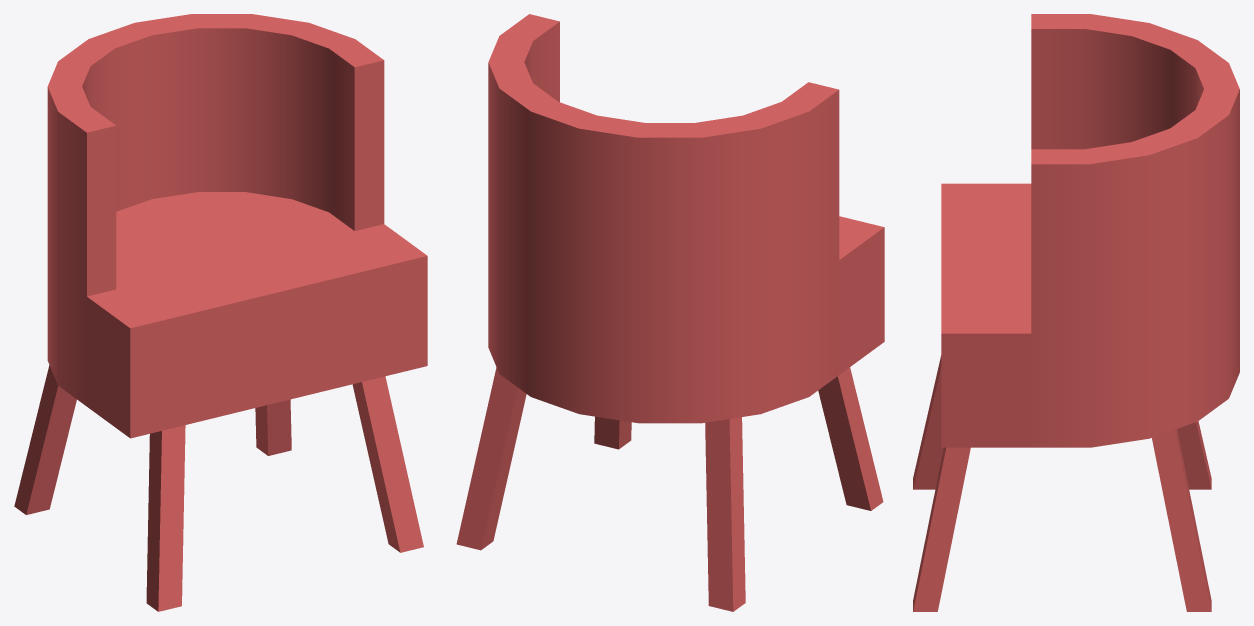
Rendered from sessel.fbx.
3 views of the same model, side by side, from view 1: azimuth 30°, elevation 25°; view 2: azimuth 150°, elevation 25°; view 3: azimuth 270°, elevation 25° (orthographic). The views are drawn at different scales.
Visible parts, largest first — view 1: Box.003; view 2: Box.003; view 3: Box.003.
Boxes of the visible parts, x1=… form: Box.003: x1=14, y1=14, x2=427, y2=611; Box.003: x1=456, y1=14, x2=884, y2=611; Box.003: x1=913, y1=14, x2=1239, y2=611.
Size of the model in its own units: 363 by 515 by 334.
